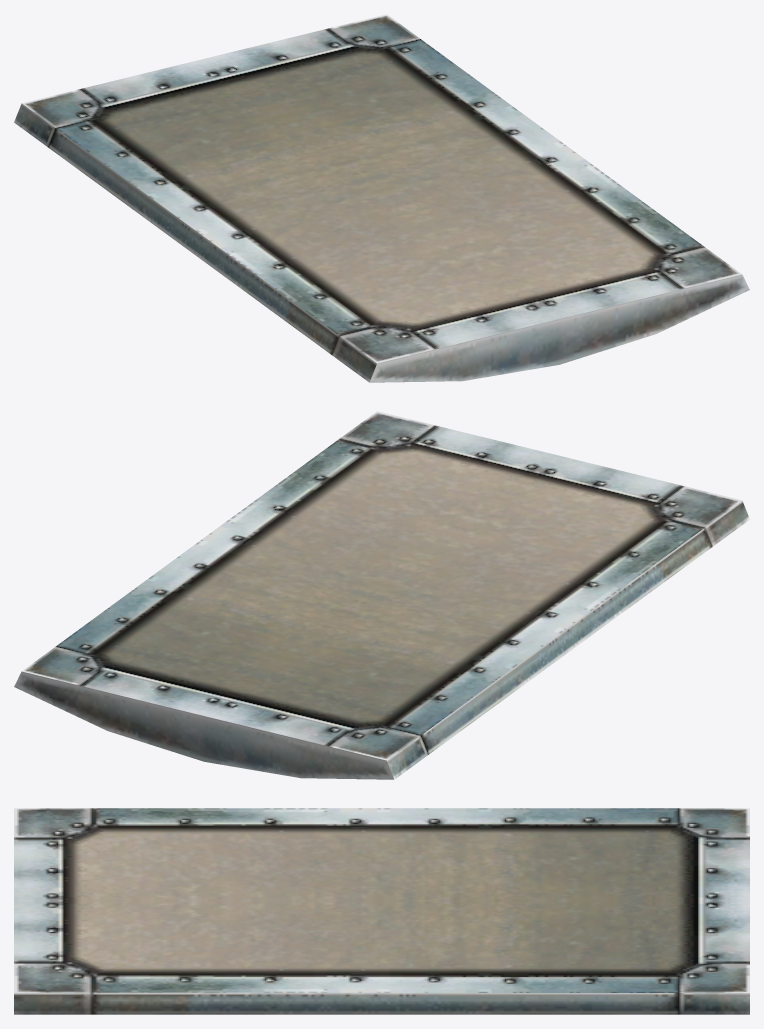
Rendered from msh.glb.
The picture shows the model from 3 angles, top to bottom: view 1: azimuth 30°, elevation 25°; view 2: azimuth 150°, elevation 25°; view 3: azimuth 270°, elevation 25°; orthographic projection. The views are drawn at different scales.
Parts seen in each view (by area): view 1: msh; view 2: msh; view 3: msh.
Boxes of the visible parts, left/top/right/bottom form: msh: left=14, top=14, right=749, bottom=382; msh: left=14, top=411, right=749, bottom=779; msh: left=14, top=808, right=749, bottom=1014.
Size of the model in its own units: 0.4735 by 0.0545 by 0.7664.
Materials: 1 (1 with a texture image).
